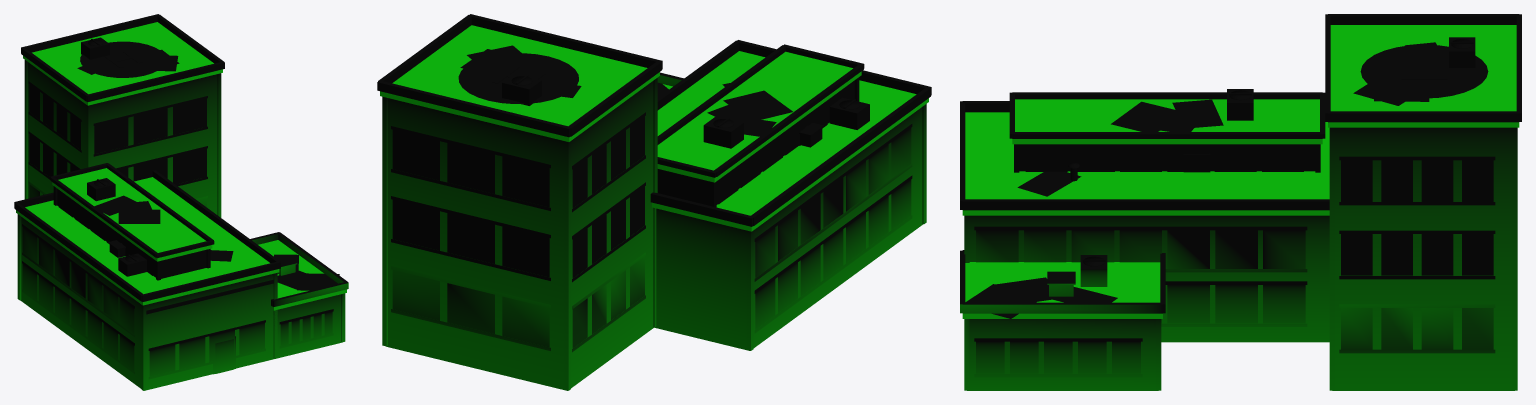
3 renders of one model, left to right at view 1: azimuth 30°, elevation 25°; view 2: azimuth 150°, elevation 25°; view 3: azimuth 270°, elevation 25°, orthographic. The views are drawn at different scales.
Visible parts, largest first — view 1: lod0; view 2: lod0; view 3: lod0.
Boxes of the visible parts, x1=… form: lod0: x1=14, y1=14, x2=348, y2=390; lod0: x1=377, y1=14, x2=931, y2=390; lod0: x1=960, y1=14, x2=1521, y2=390.
Size of what is drawn, in the model's own units: 20.65 by 18.14 by 31.7.
